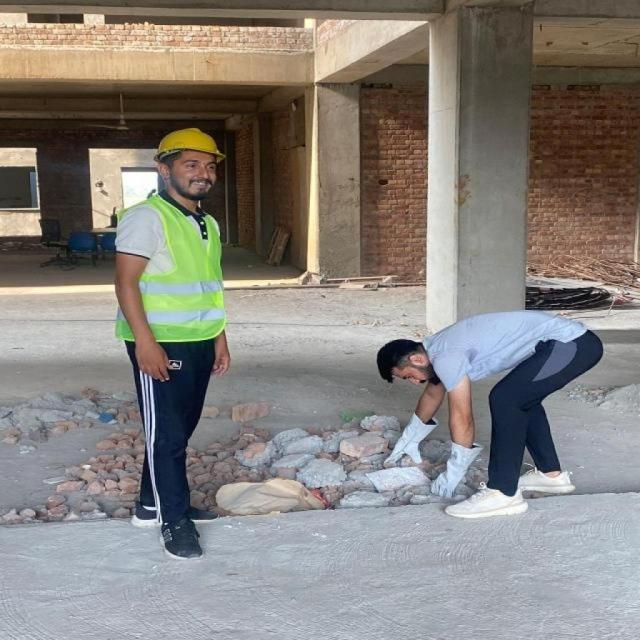Gloves-Detection: (396, 411, 433, 464), (441, 435, 475, 492)
